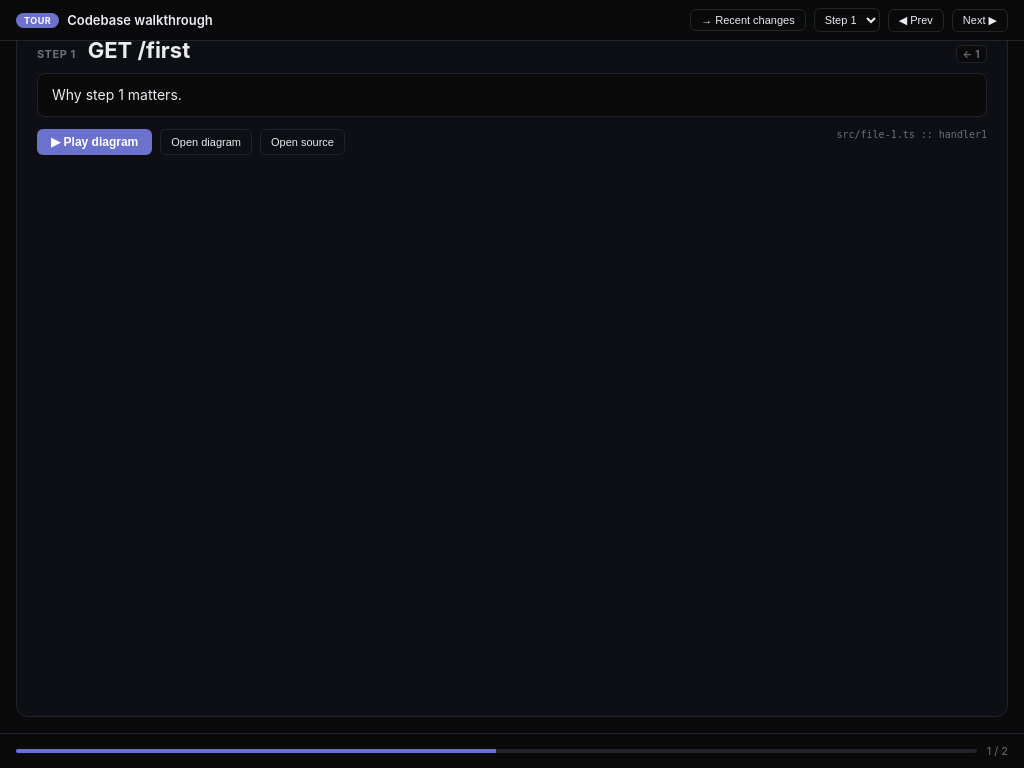
it: TourView › Next button advances to step 2
The image size is (1024, 768).
Click the button with aria-label "Next step" at (980, 20), box x1=952 y1=8 x2=1008 y2=32
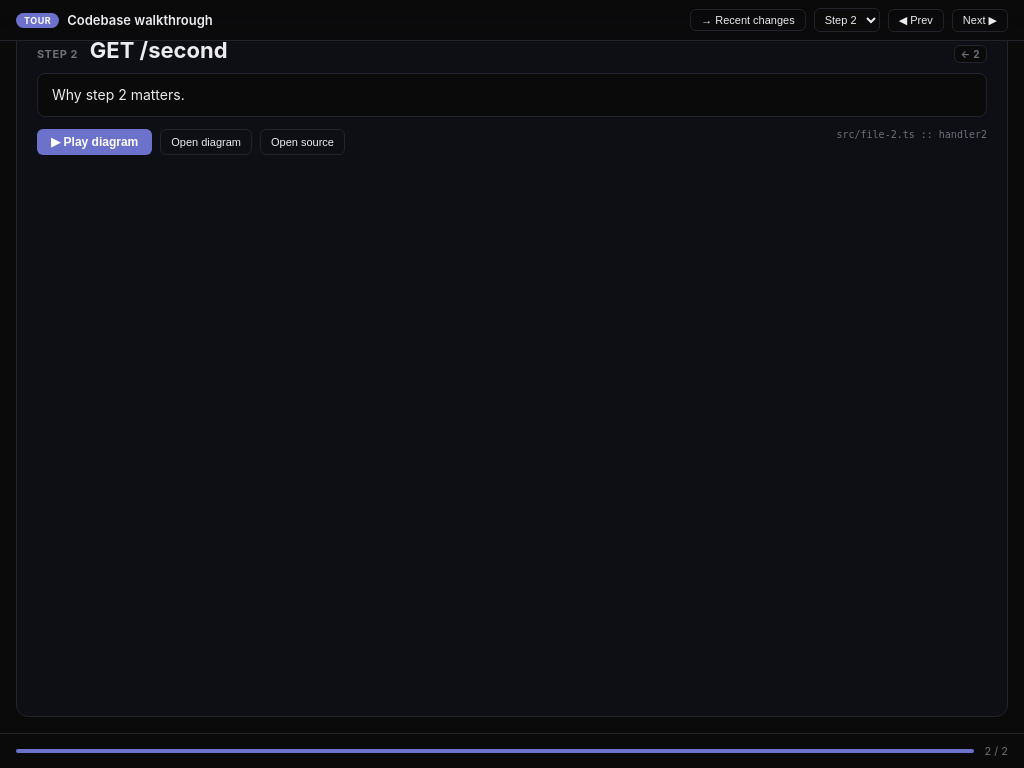
Expected: the text "GET /second" is shown, x1=90 y1=37 x2=228 y2=63
